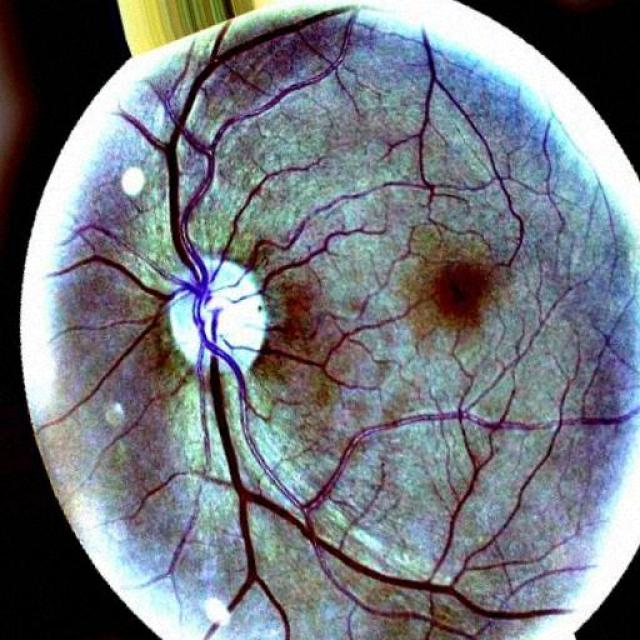Macula: (414, 238, 502, 346)
Nerves: (143, 17, 539, 631)
Optic Disk: (151, 255, 280, 377)
